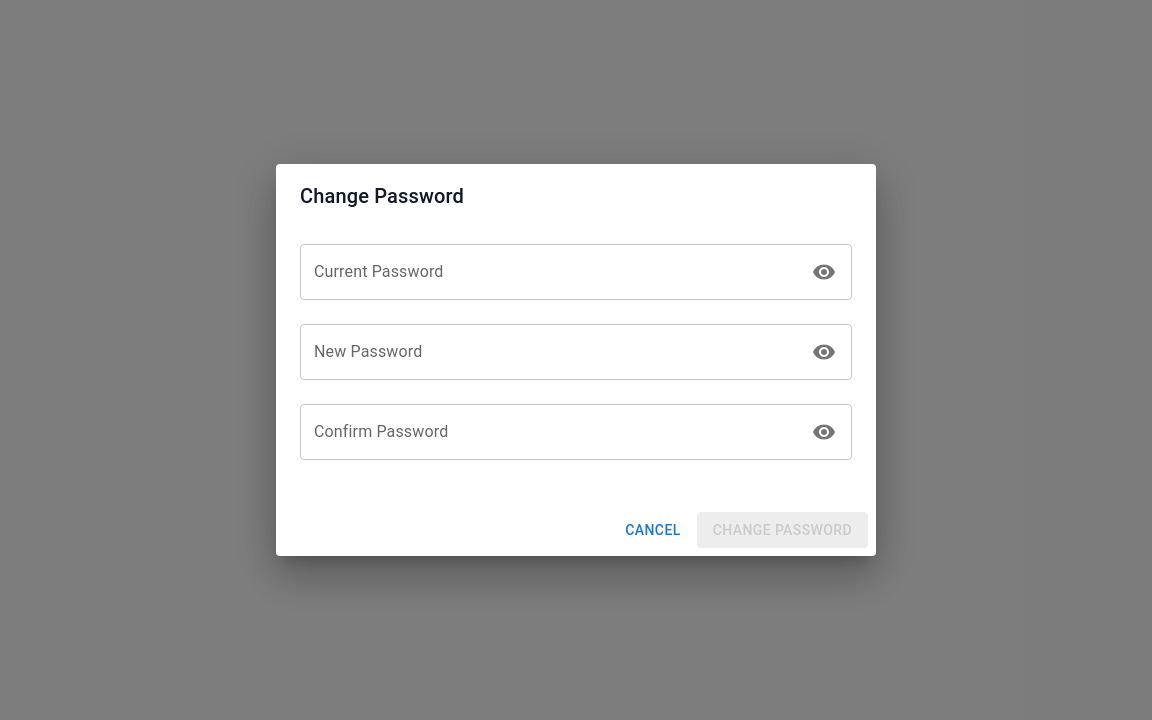
it: ChangePasswordModal › Password Matching › should show password match indicator when passwords match
Type "ValidPassword123!" into the password field labelled "New Password".
click(554, 352); type("ValidPassword123!")  # box [300,324,807,380]
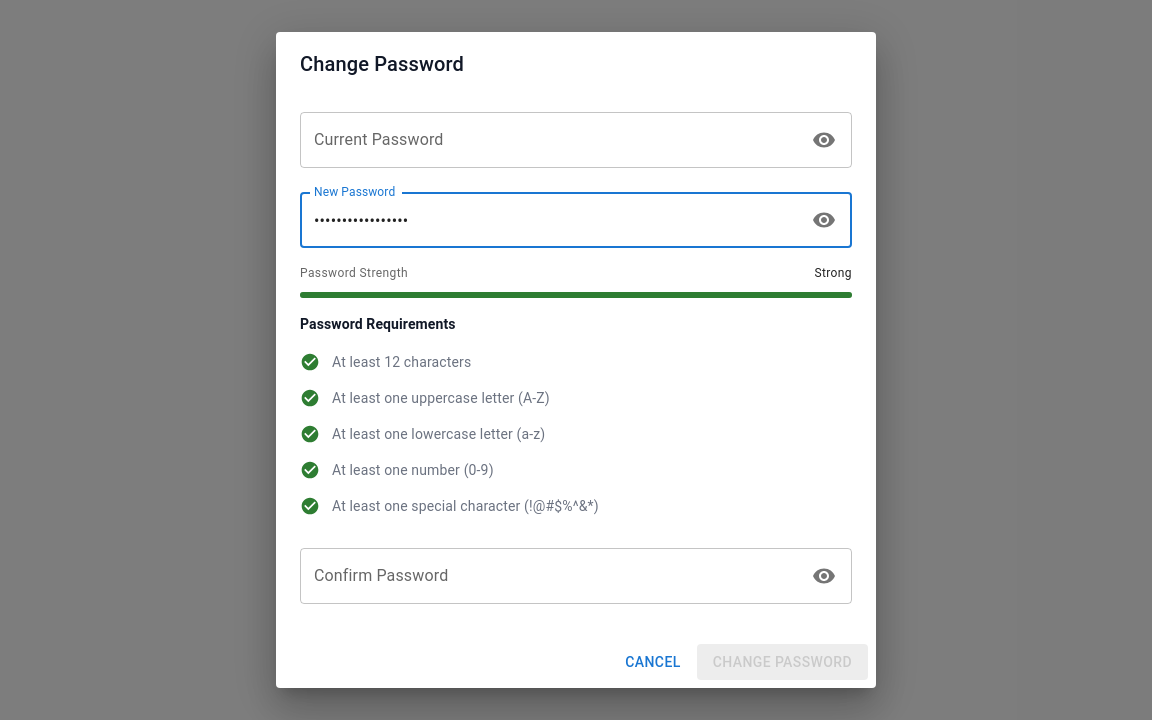
Type "ValidPassword123!" into the password field labelled "Confirm Password".
click(554, 576); type("ValidPassword123!")  # box [300,548,807,604]
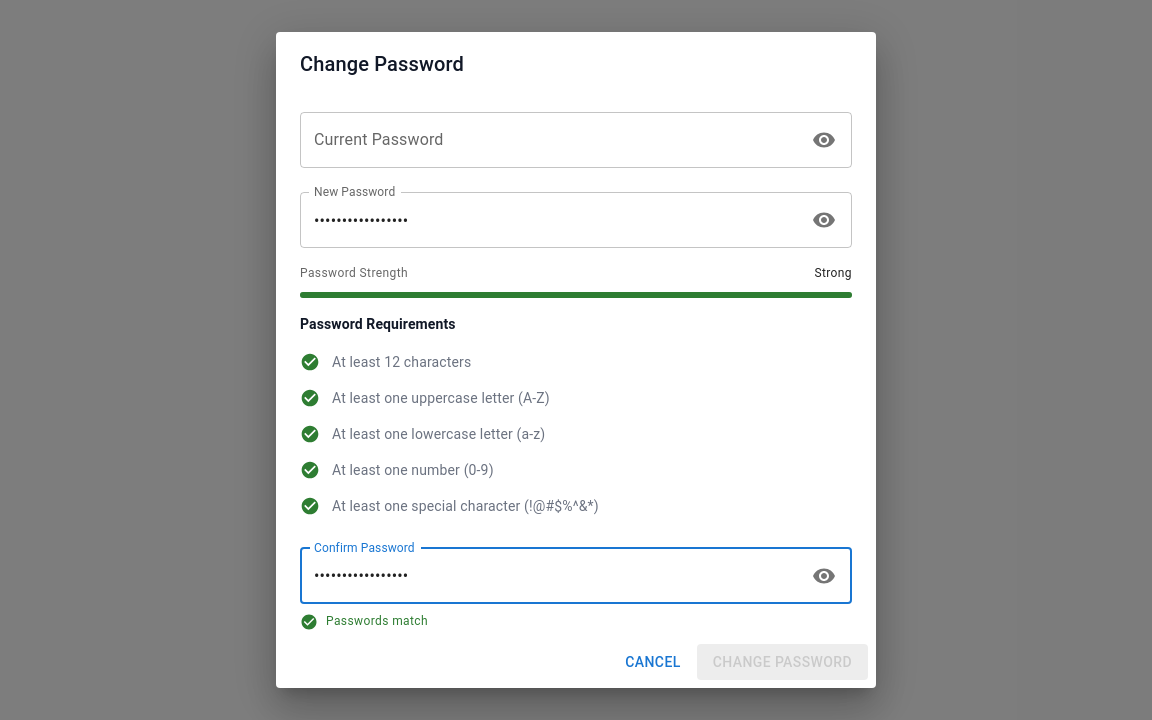
Now the text "Passwords match" is shown, box [326,612,428,632]
